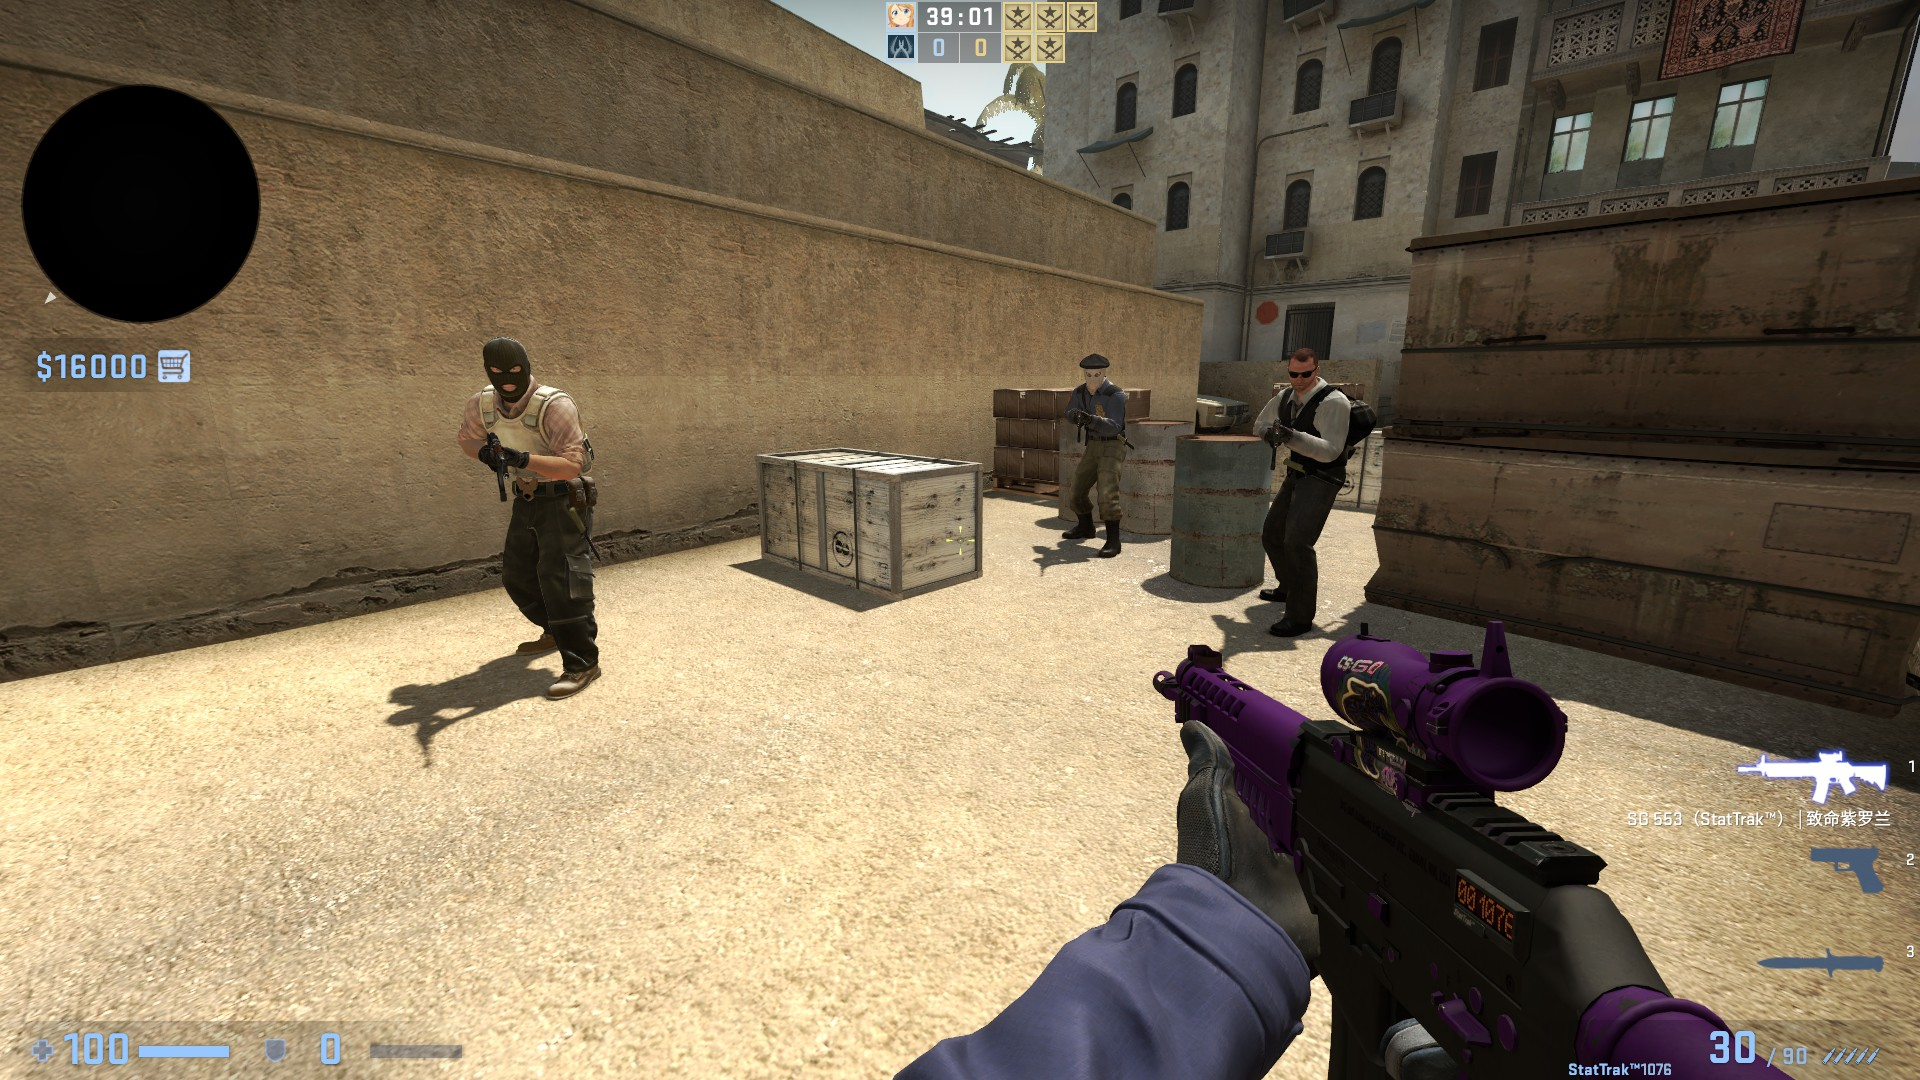head: (477, 335, 533, 401), (1078, 351, 1111, 393), (1288, 351, 1318, 393)
